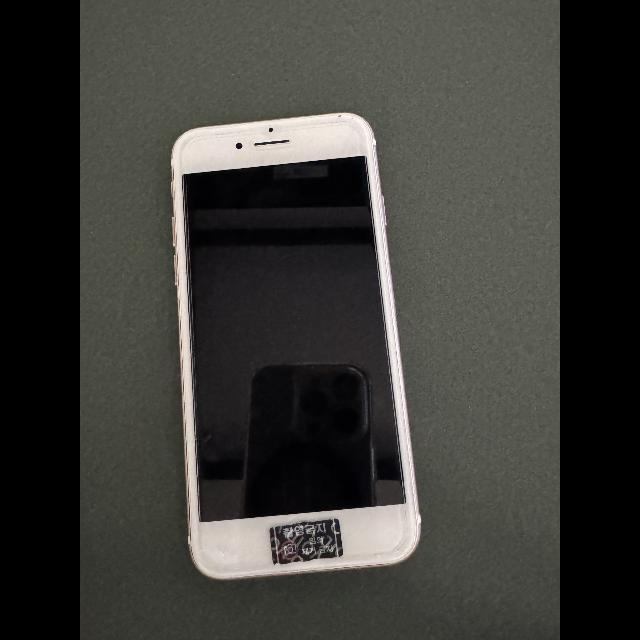lens: (269, 127, 273, 132)
phone: (171, 113, 420, 579)
sticker: (270, 519, 343, 564)
